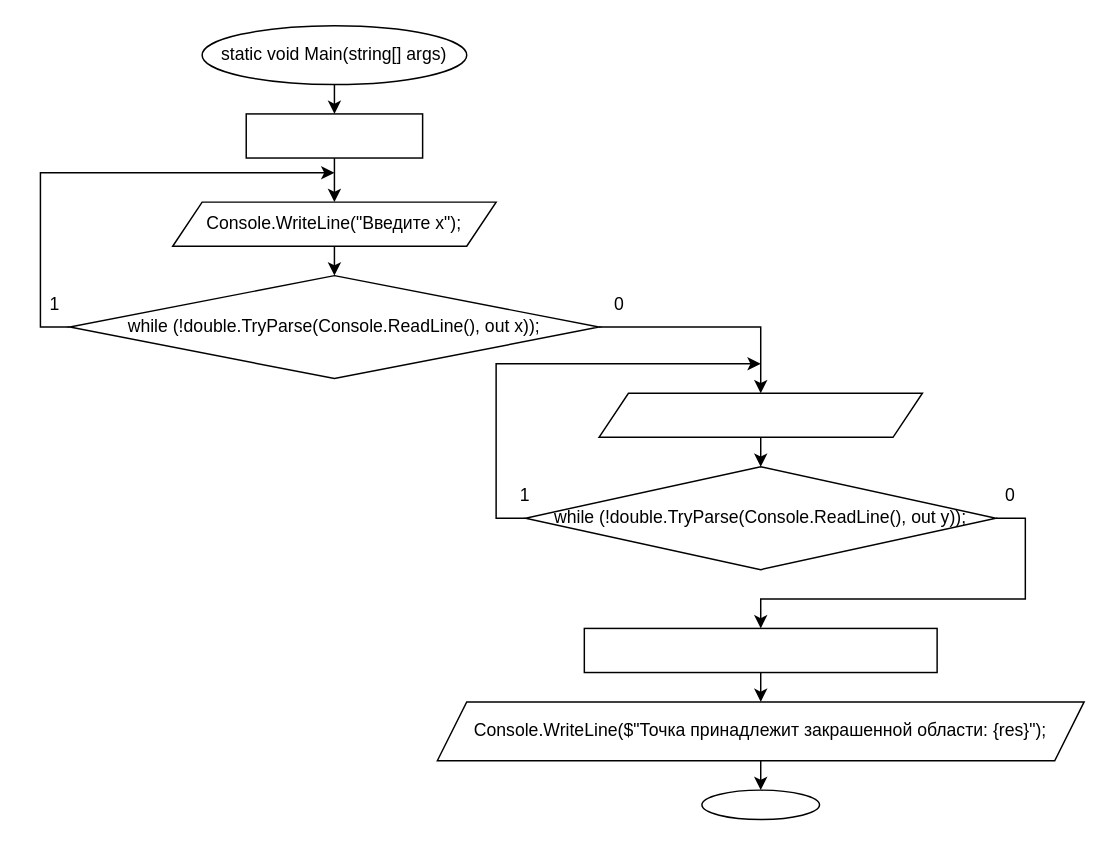
The diagram is 1110 pixels wide and 845 high, and some of its shapes have lost their labels. The centre of each missing label's shape, as x and y in pixels:
bool res = (y <= 0) && (x * x + y * y <= 1);: (x=760, y=650)
Console.WriteLine("Введите y");: (x=760, y=414)
double x, y;: (x=334, y=135)
